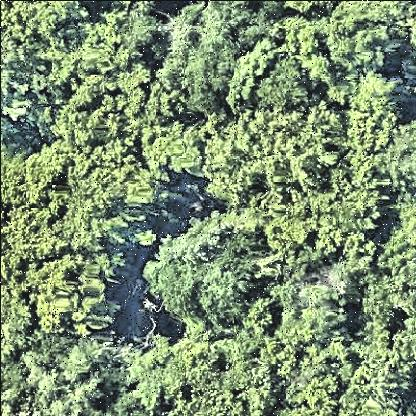tree-top: (33, 140, 159, 241), (131, 329, 276, 416), (156, 230, 263, 329), (153, 2, 242, 114), (21, 246, 115, 344), (271, 278, 351, 352), (333, 66, 398, 154), (140, 118, 205, 182), (250, 57, 307, 115)
